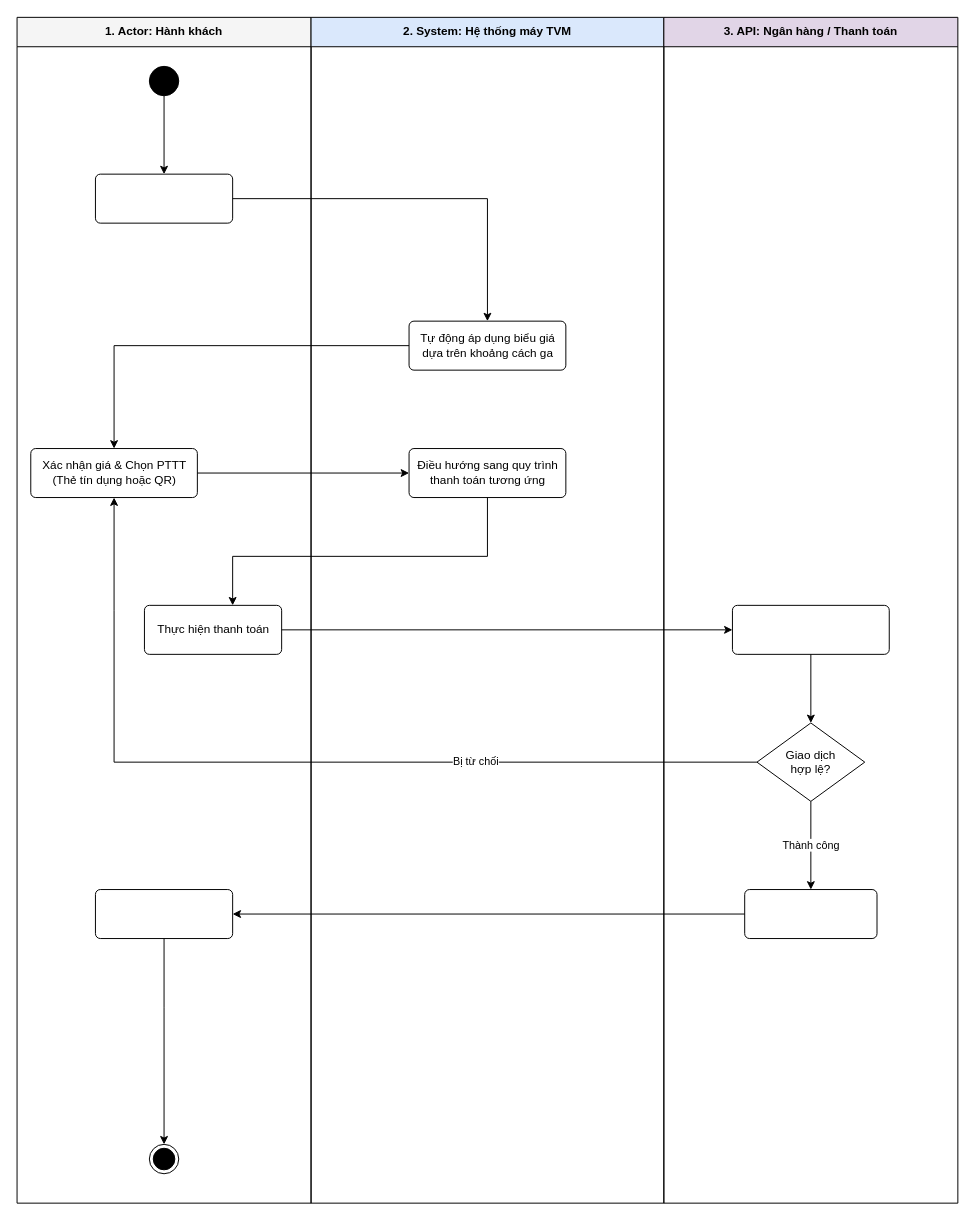
This 975x1220 diagram has some shape labels left out. The centre of each missing label's shape, as x and y in pixels:
"Chọn điểm đến từ danh sách" goes at (x=163, y=198).
"Hiển thị mã vé" goes at (x=163, y=914).
"Tạo mã vé" goes at (x=810, y=914).
"Xử lý giao dịch" goes at (x=810, y=629).
